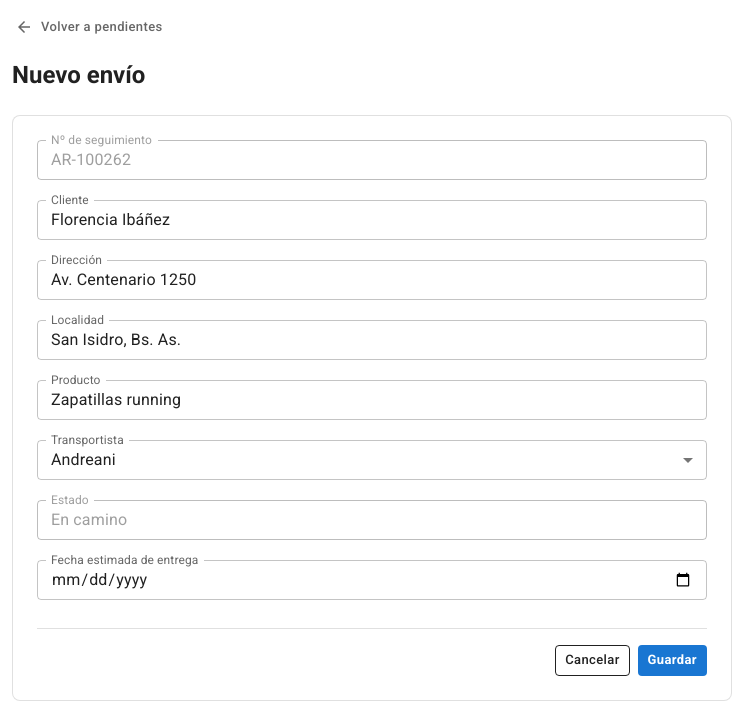
Test case: NewShipmentPage › solo ofrece transportistas activos
Click the dropdown named "Transportista": {"x": 83, "y": 460} [51,450,116,469]
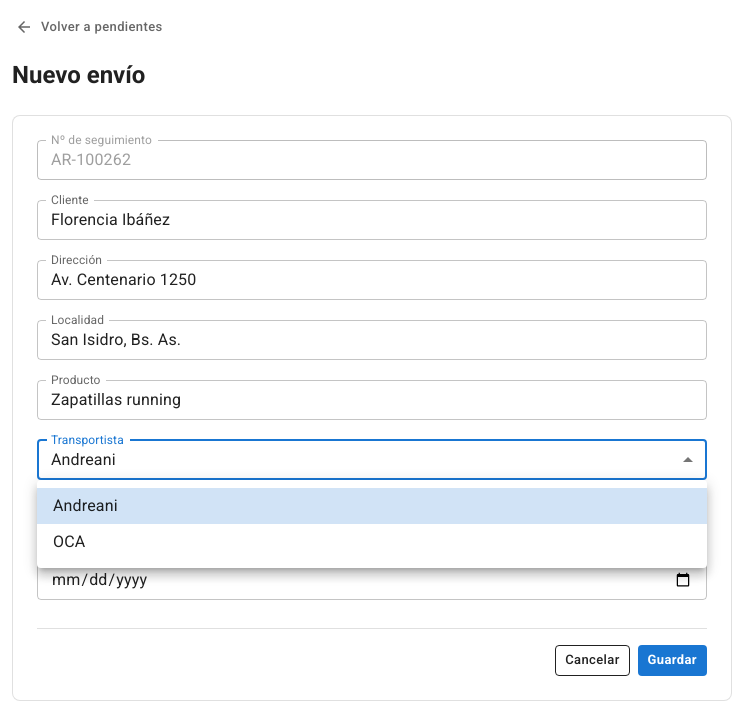
Now the options read "Andreani", "OCA", in this order, box [37,488,707,524]; [53,532,85,551]
